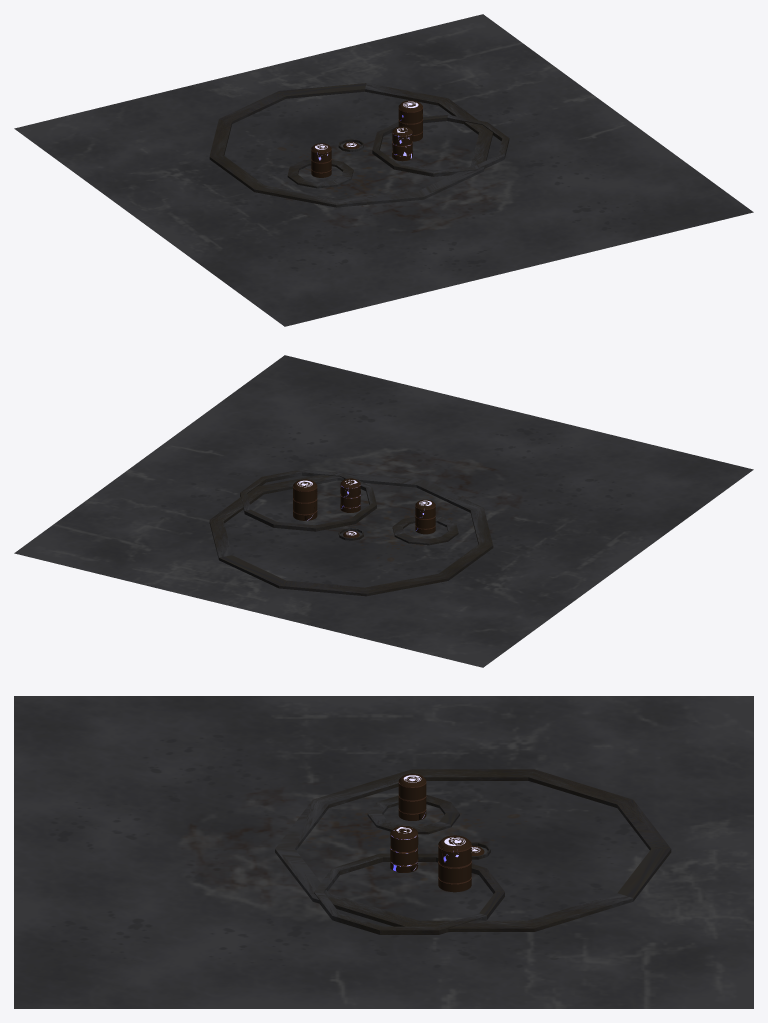
The model's file is smallfloor.glb.
The picture shows the model from 3 angles, top to bottom: view 1: azimuth 30°, elevation 25°; view 2: azimuth 150°, elevation 25°; view 3: azimuth 270°, elevation 25°; orthographic projection. The views are drawn at different scales.
Visible parts, largest first — view 1: Plane, Circle, Circle.002, Circle.003, capsule.003, capsule.001, capsule.002; view 2: Plane, Circle, Circle.002, capsule.003, Circle.003, capsule.002, capsule.001; view 3: Plane, Circle, Circle.002, capsule.003, Circle.003, capsule.001, capsule.002.
Boxes of the visible parts, x1=… form: Plane: x1=14, y1=14, x2=753, y2=326; Circle: x1=209, y1=83, x2=492, y2=207; Circle.002: x1=372, y1=115, x2=509, y2=176; Circle.003: x1=287, y1=159, x2=353, y2=188; capsule.003: x1=398, y1=100, x2=422, y2=141; capsule.001: x1=311, y1=143, x2=331, y2=177; capsule.002: x1=392, y1=126, x2=412, y2=161; Plane: x1=14, y1=355, x2=753, y2=667; Circle: x1=209, y1=471, x2=493, y2=596; Circle.002: x1=240, y1=469, x2=376, y2=531; capsule.003: x1=293, y1=479, x2=317, y2=520; Circle.003: x1=392, y1=516, x2=458, y2=545; capsule.002: x1=340, y1=478, x2=360, y2=512; capsule.001: x1=415, y1=499, x2=435, y2=534; Plane: x1=14, y1=696, x2=753, y2=1008; Circle: x1=275, y1=769, x2=671, y2=931; Circle.002: x1=314, y1=853, x2=504, y2=934; capsule.003: x1=438, y1=835, x2=471, y2=892; Circle.003: x1=367, y1=795, x2=459, y2=834; capsule.001: x1=398, y1=773, x2=426, y2=820; capsule.002: x1=390, y1=825, x2=418, y2=872.
Size of the model in its own units: 16.98 by 1.87 by 16.98.
4 materials, 3 textured.
